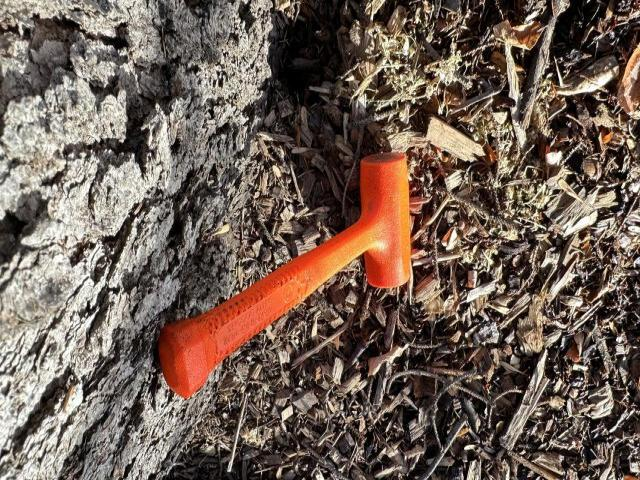hammer: (156, 152, 413, 400)
